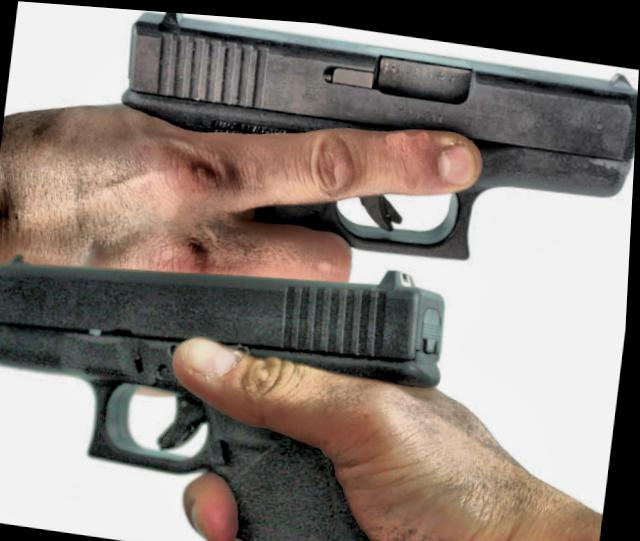pistol: (0, 210, 453, 541), (108, 7, 640, 275)
